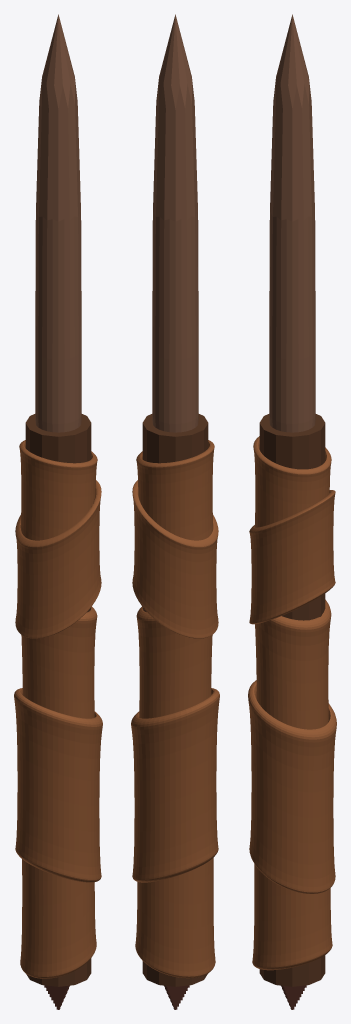
File: Wand 304.glb
The picture shows the model from 3 angles, left to right: view 1: azimuth 30°, elevation 25°; view 2: azimuth 150°, elevation 25°; view 3: azimuth 330°, elevation 25°; orthographic projection.
Visible parts, largest first — view 1: GeneratedWand; view 2: GeneratedWand; view 3: GeneratedWand.
Part boxes in pixels (x1,y1,x2,y2): GeneratedWand: [14, 14, 102, 1009]; GeneratedWand: [131, 14, 219, 1009]; GeneratedWand: [248, 14, 336, 1009].
Bounding box in the file's own units: 0.0408 × 0.5037 × 0.0408.
